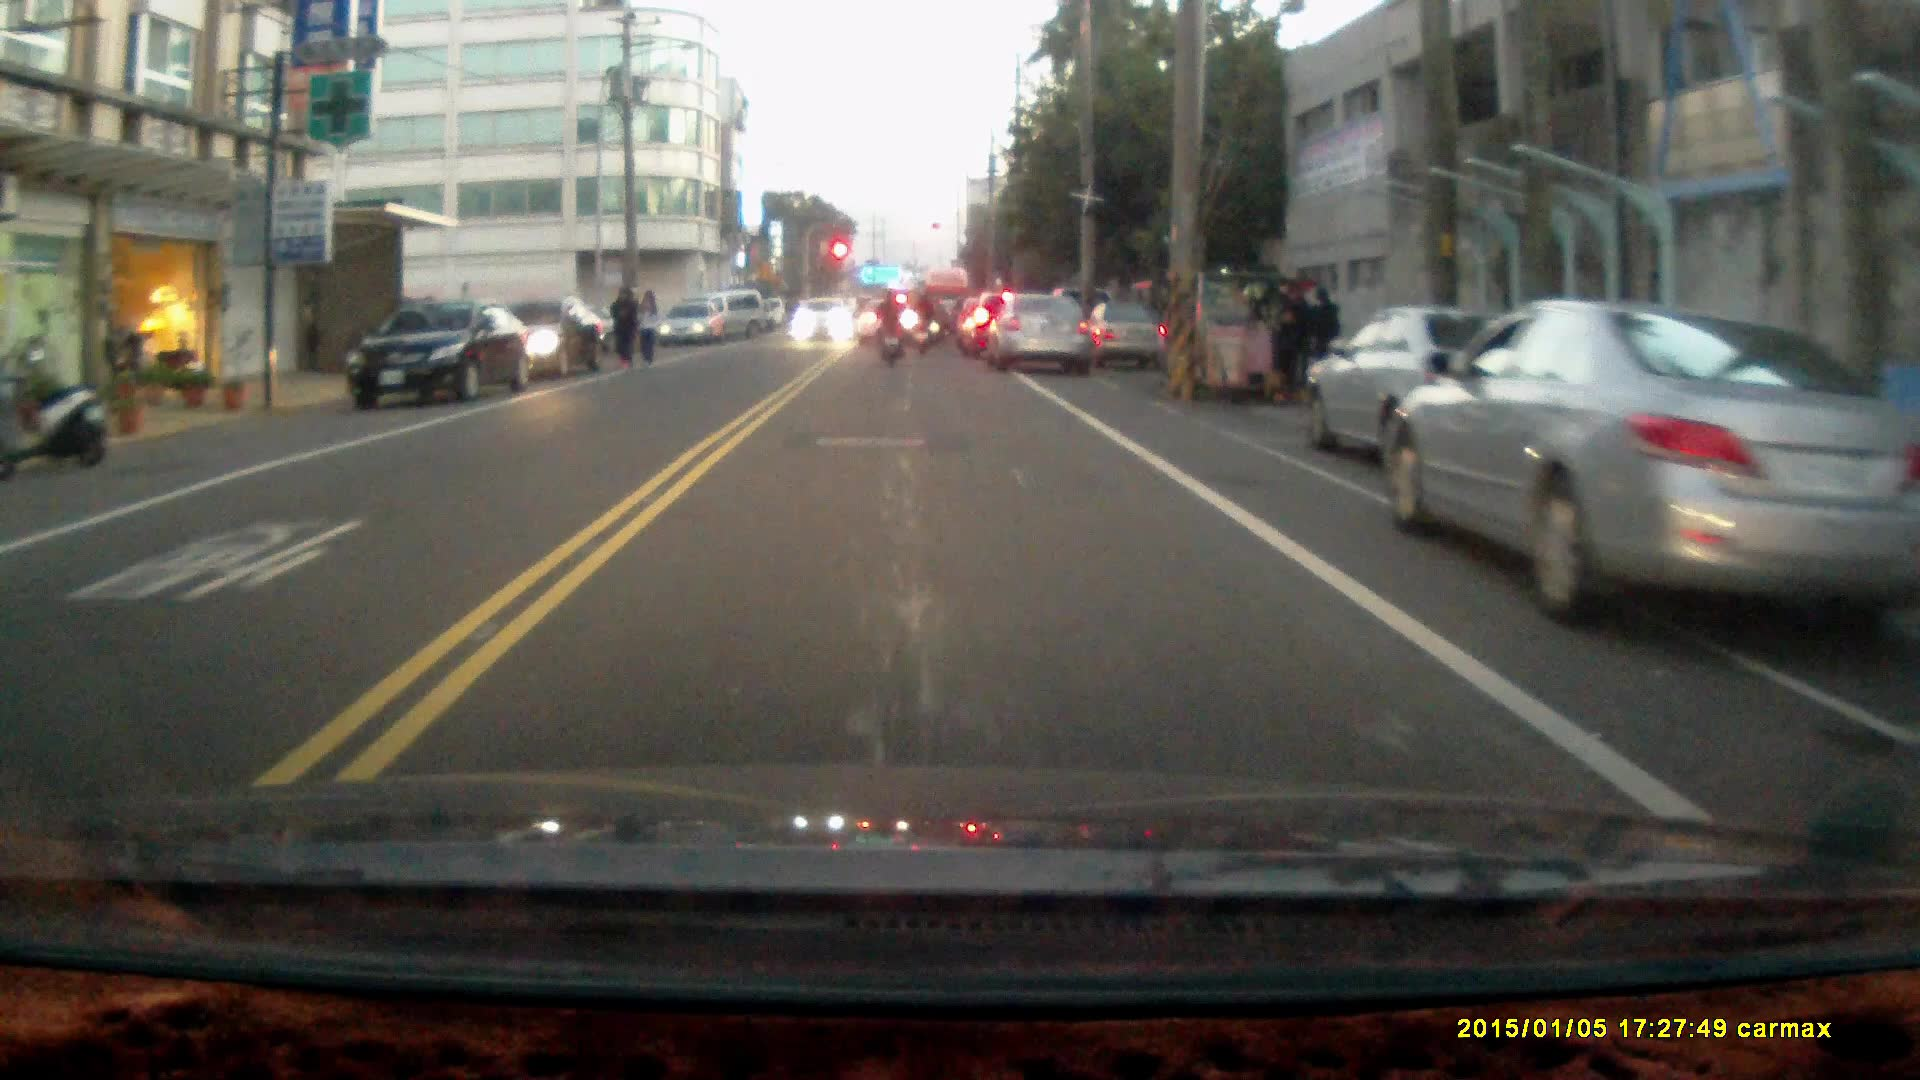pedestrian: (1304, 286, 1341, 384), (607, 281, 639, 367), (635, 286, 659, 368)
rider: (872, 287, 905, 367), (906, 290, 935, 355)
vehicle: (1382, 297, 1920, 626), (1308, 304, 1523, 472), (1147, 264, 1313, 398), (344, 296, 538, 407), (500, 299, 615, 381), (990, 284, 1098, 367), (660, 300, 729, 348), (792, 295, 856, 345)
